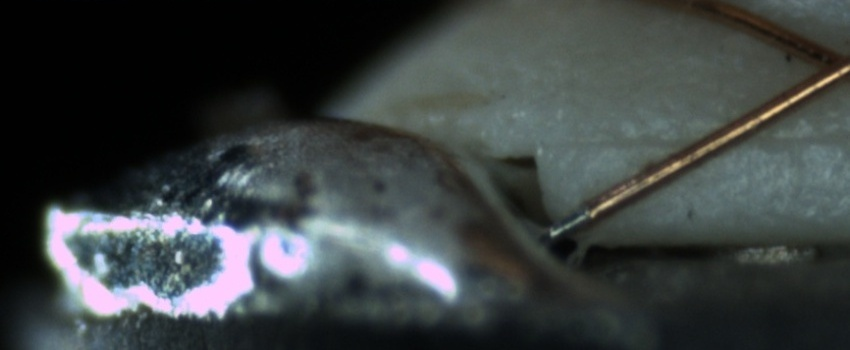CL: (780, 18, 846, 104)
DL: (570, 105, 846, 175)
TS: (549, 207, 591, 238)
